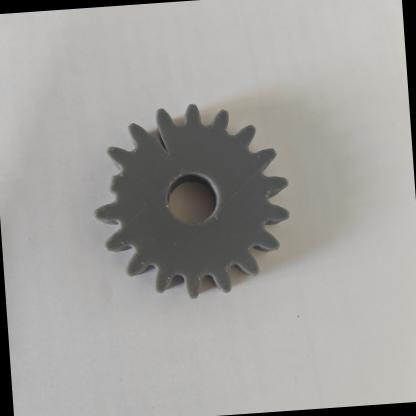defect: (116, 100, 196, 174), (86, 154, 134, 224)
gear: (70, 81, 309, 312)
